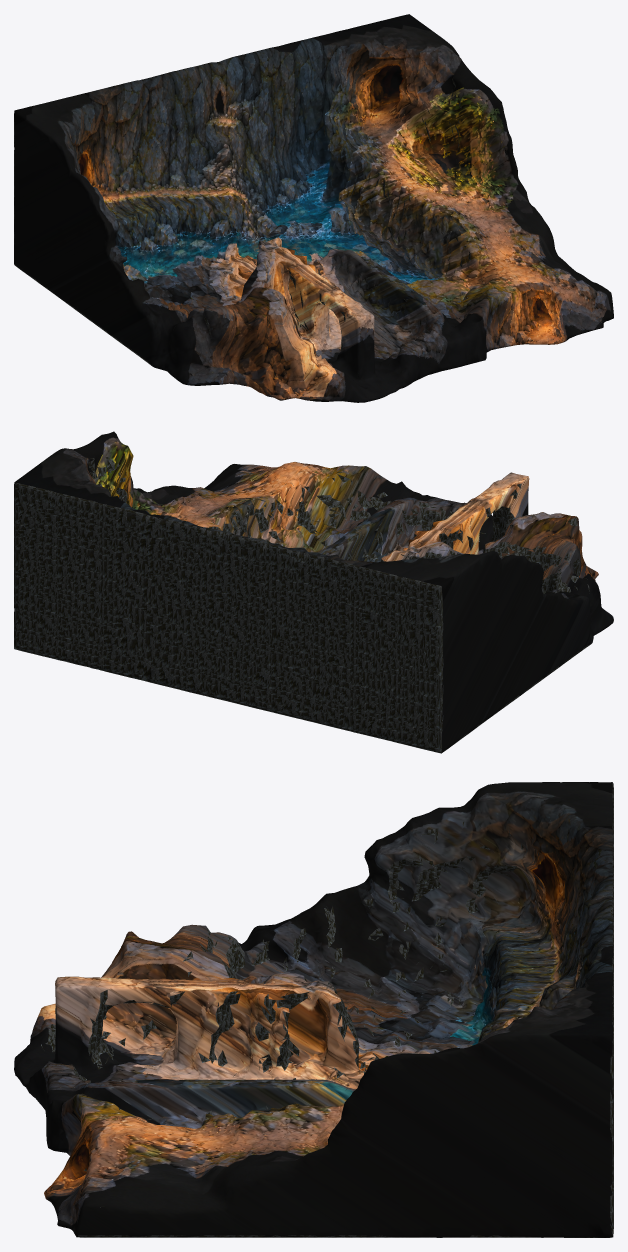
File: lower-ravine-v4.glb
The picture shows the model from 3 angles, top to bottom: view 1: azimuth 30°, elevation 25°; view 2: azimuth 150°, elevation 25°; view 3: azimuth 270°, elevation 25°; orthographic projection. The views are drawn at different scales.
Parts seen in each view (by area): view 1: generated_ravine_00; view 2: generated_ravine_00; view 3: generated_ravine_00.
Part boxes in pixels (x1,y1,x2,y2): generated_ravine_00: [14, 14, 613, 402]; generated_ravine_00: [14, 431, 613, 753]; generated_ravine_00: [14, 782, 613, 1237].
Bounding box in the file's own units: 46.73 × 18 × 46.72.
2 materials, 2 textured.
